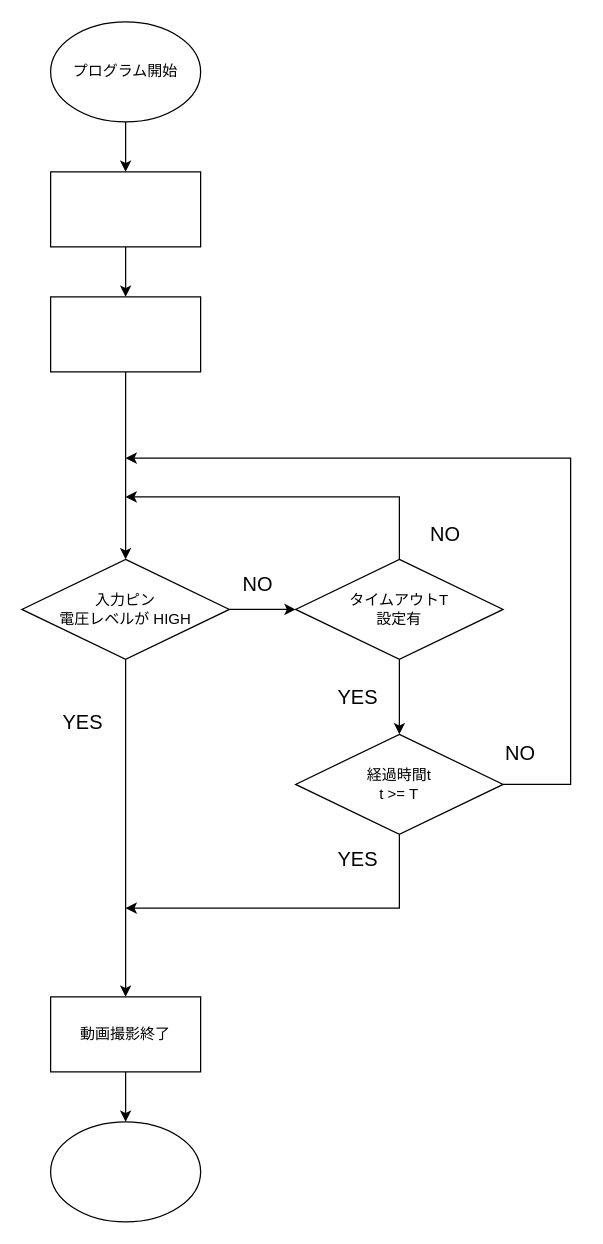
This 603x1244 diagram has some shape labels left out. The centre of each missing label's shape, as x and y in pixels:
"デジタル入力ピンを設定" belongs at point (125, 209).
"プログラム終了" belongs at point (125, 1171).
"動画撮影開始" belongs at point (125, 334).
